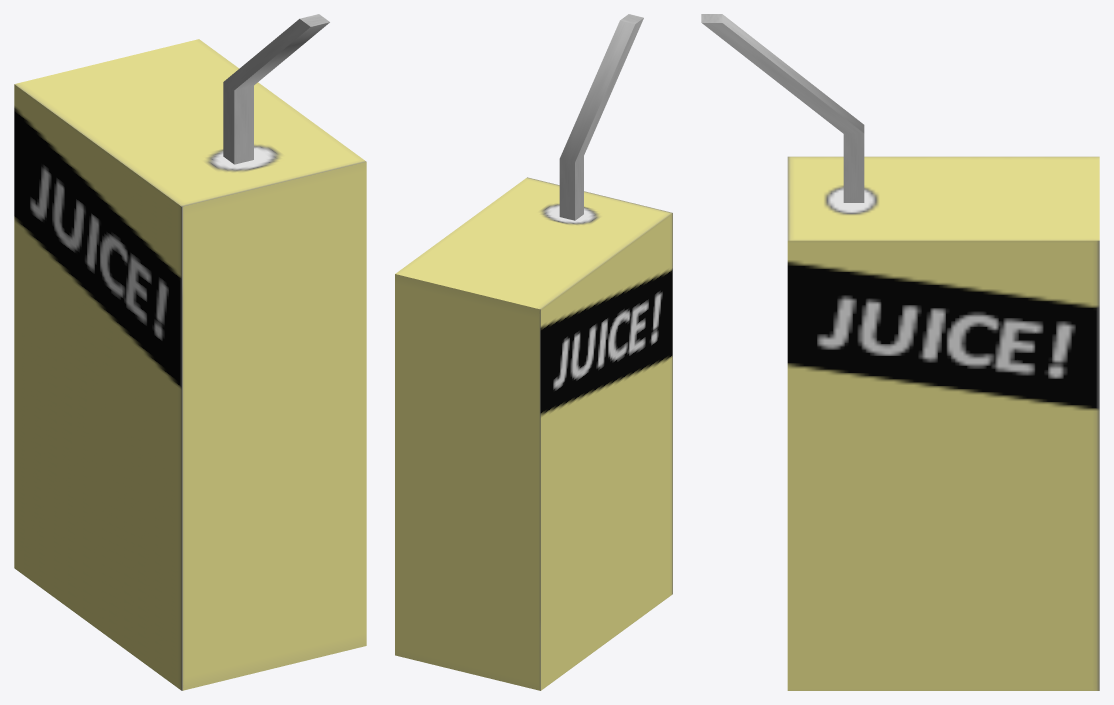
File: JuiceBox.FBX
3 renders of one model, left to right at view 1: azimuth 30°, elevation 25°; view 2: azimuth 150°, elevation 25°; view 3: azimuth 270°, elevation 25°, orthographic. The views are drawn at different scales.
Visible parts, largest first — view 1: Box001, Box002; view 2: Box001, Box002; view 3: Box001, Box002.
Boxes of the visible parts, x1=… form: Box001: x1=14, y1=39, x2=366, y2=690; Box002: x1=223, y1=14, x2=329, y2=164; Box001: x1=395, y1=177, x2=672, y2=690; Box002: x1=559, y1=14, x2=643, y2=220; Box001: x1=787, y1=156, x2=1099, y2=690; Box002: x1=701, y1=14, x2=864, y2=202.
Bounding box in the file's own units: 0.0294 × 0.1031 × 0.059.
1 material, 1 textured.
